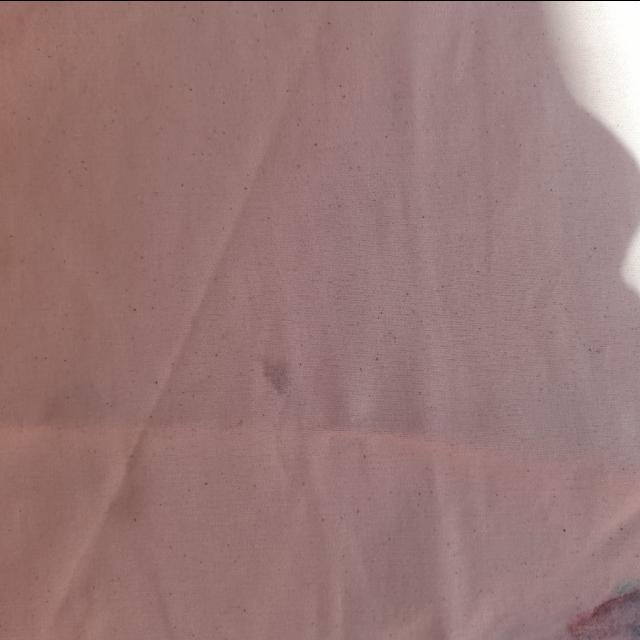taaaches: (548, 555, 640, 640), (222, 336, 310, 401)
